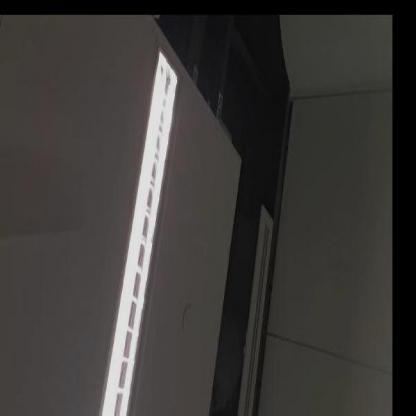light_on: (93, 43, 186, 415)
